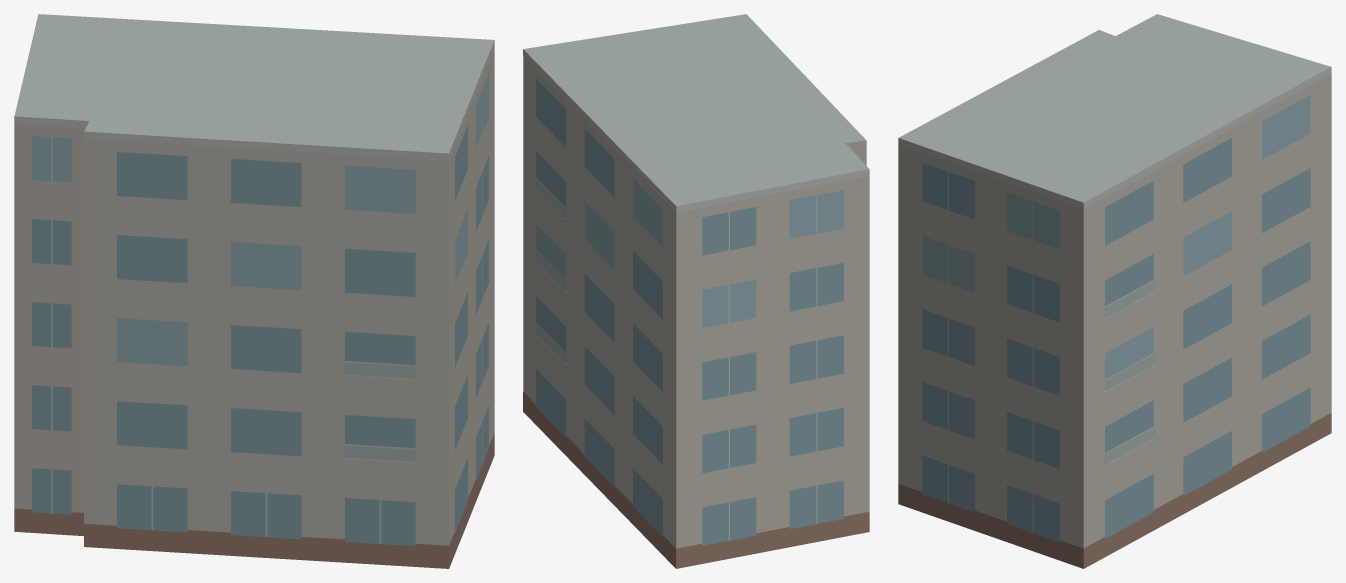
File: survey-upis-32986916.glb
The picture shows the model from 3 angles, left to right: view 1: azimuth 30°, elevation 25°; view 2: azimuth 150°, elevation 25°; view 3: azimuth 270°, elevation 25°; orthographic projection. The views are drawn at different scales.
Parts seen in each view (by area): view 1: survey-upis-32986916.tmp; view 2: survey-upis-32986916.tmp; view 3: survey-upis-32986916.tmp.
Boxes of the visible parts, x1,y1,x2,y2 form: survey-upis-32986916.tmp: (14,14,494,568); survey-upis-32986916.tmp: (523,14,869,568); survey-upis-32986916.tmp: (898,14,1331,568).
Bounding box in the file's own units: 15.25 × 13.8 × 14.8.
